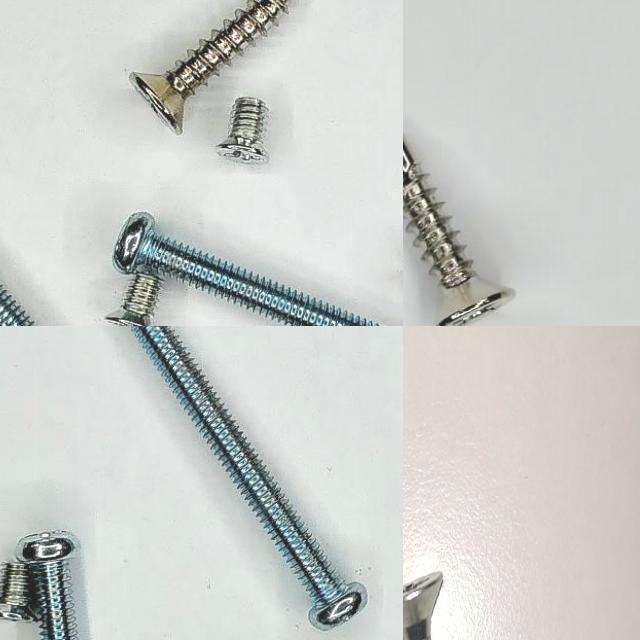Screw: (128, 326, 367, 631), (112, 213, 382, 326), (129, 0, 288, 134), (403, 140, 514, 326), (0, 532, 78, 640), (216, 97, 267, 162), (105, 274, 161, 326), (403, 570, 443, 640), (0, 563, 39, 623)
